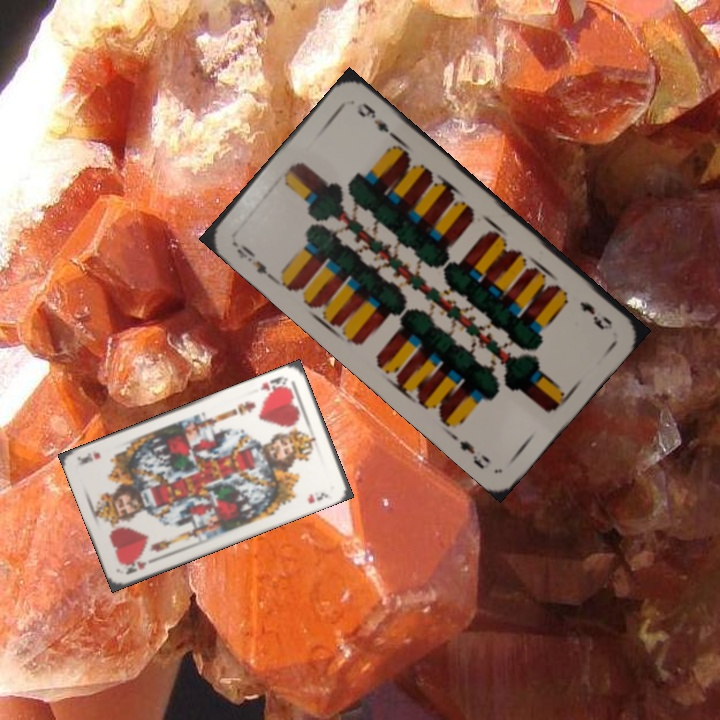E9: (228, 237, 277, 282), (575, 297, 615, 333)
HK: (122, 553, 159, 577), (256, 372, 290, 396)
